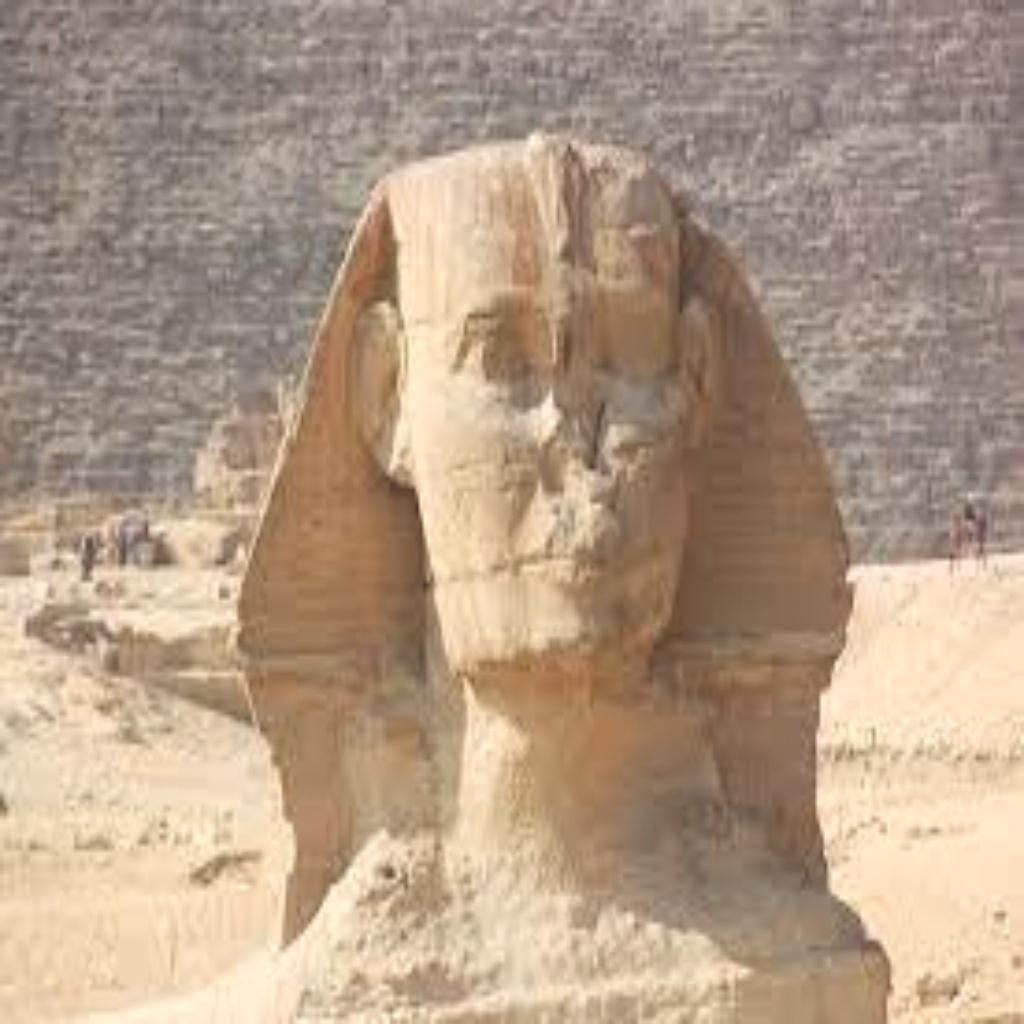Sphinx: (230, 124, 887, 1018)
